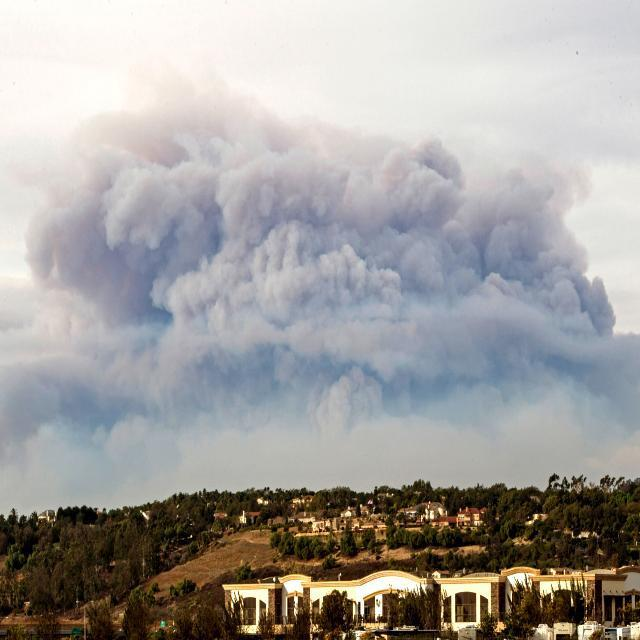Smoke: (1, 41, 638, 483)
